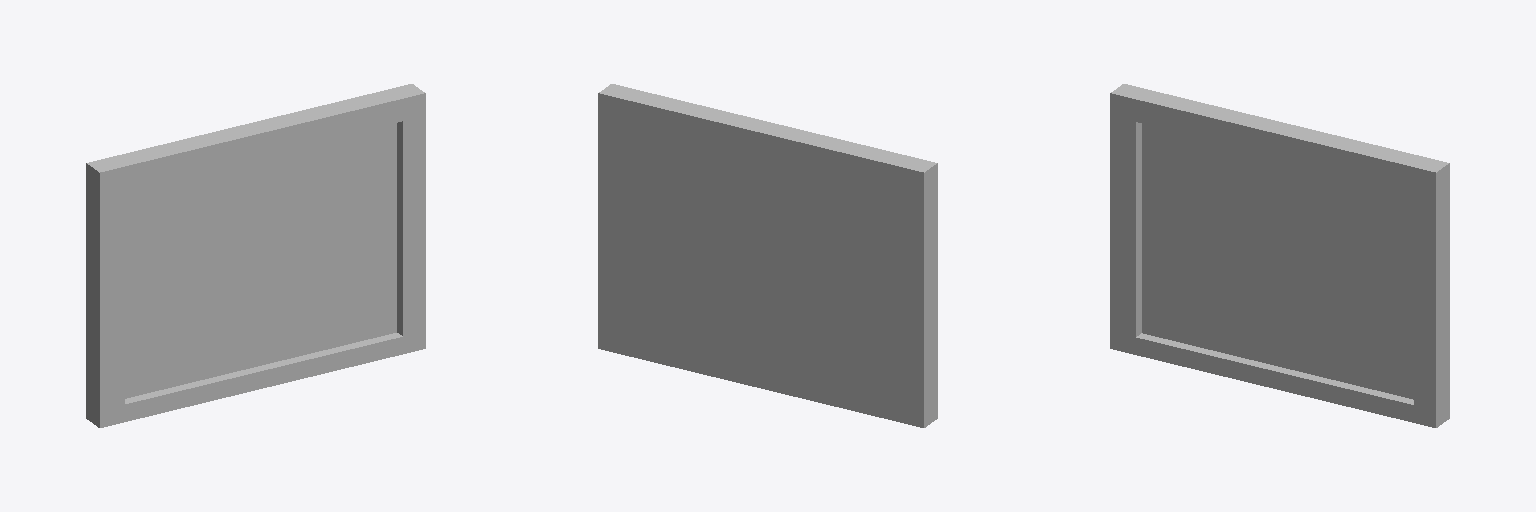
Rendered from osakatv.obj.
3 renders of one model, left to right at view 1: azimuth 30°, elevation 25°; view 2: azimuth 150°, elevation 25°; view 3: azimuth 330°, elevation 25°, orthographic.
Visible parts, largest first — view 1: Cube; view 2: Cube; view 3: Cube.
Part boxes in pixels (x1,y1,x2,y2): Cube: (86,84,425,427); Cube: (598,84,937,427); Cube: (1110,84,1449,427).
Bounding box in the file's own units: 4 × 3 × 0.28.